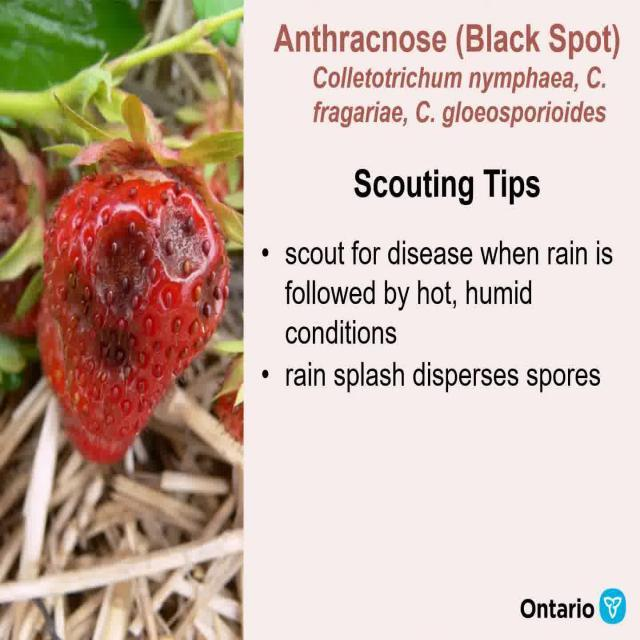Mancha negra Antracnosis: (45, 150, 226, 476), (3, 128, 56, 340)
